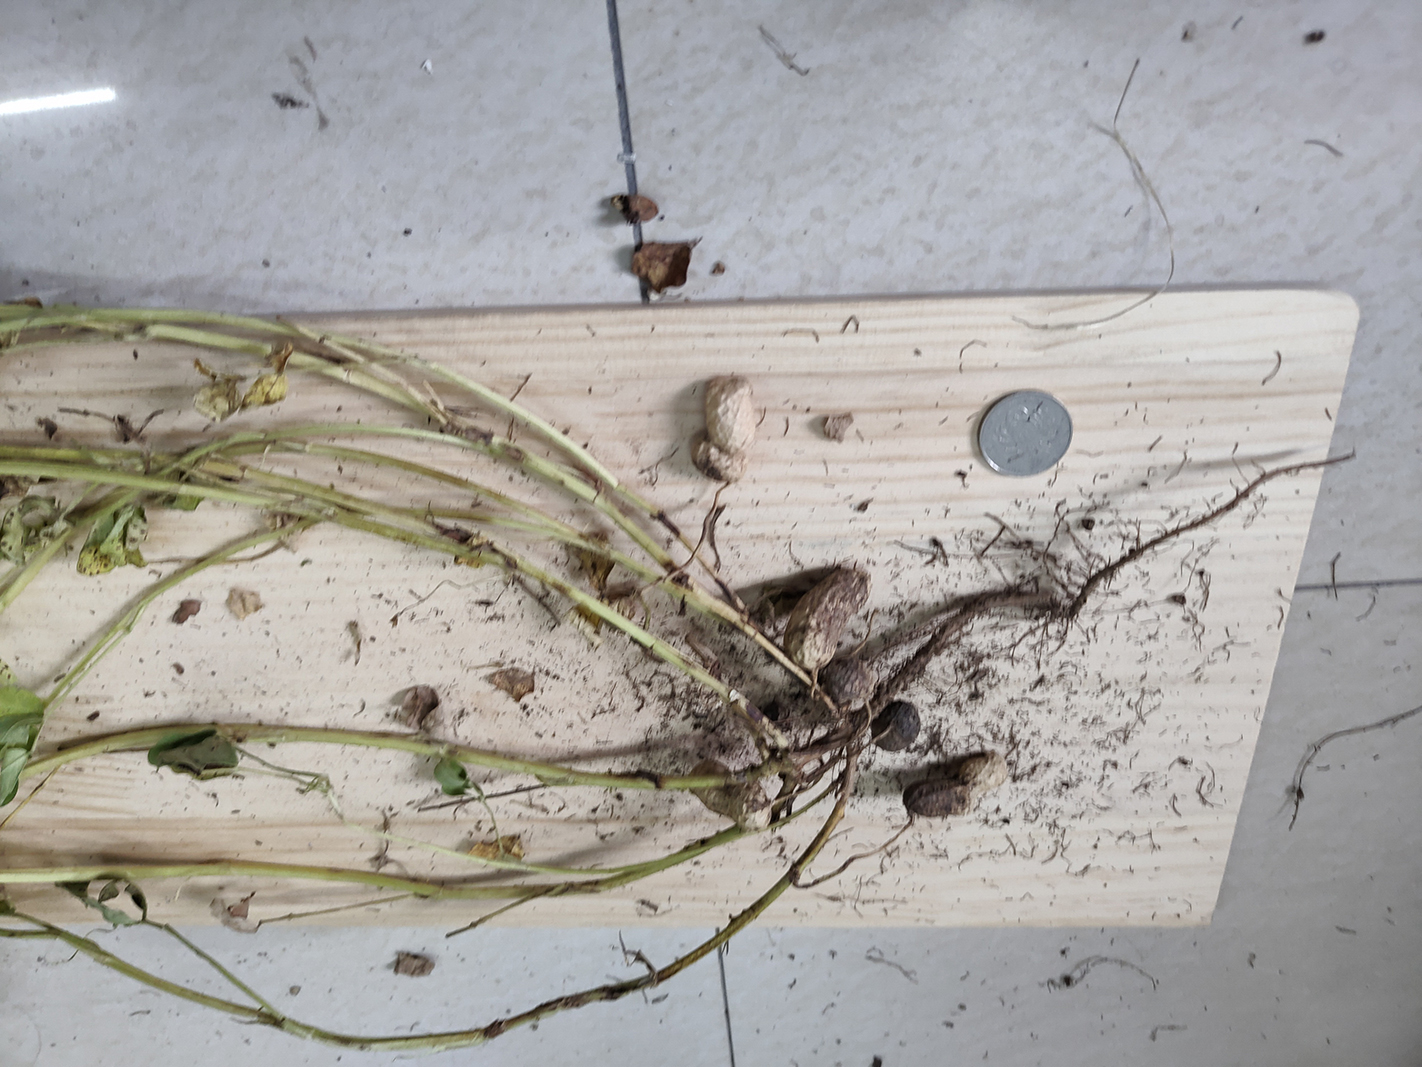h: (691, 375, 753, 484), (688, 763, 772, 831)
l: (782, 568, 872, 668), (900, 754, 1007, 820), (873, 702, 922, 750)
